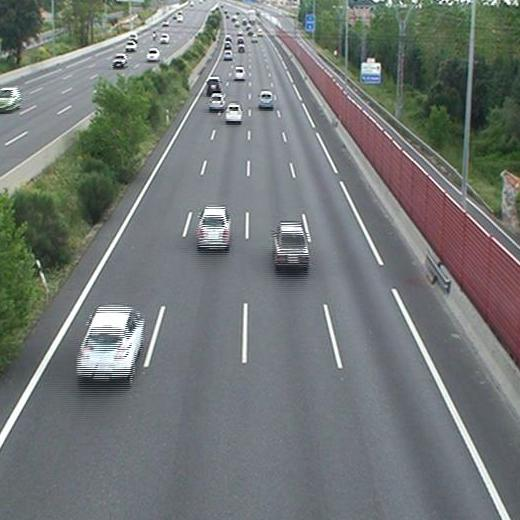car: (76, 307, 142, 379), (274, 224, 310, 266), (196, 207, 230, 249), (225, 104, 242, 121), (258, 91, 274, 108), (209, 94, 224, 111), (206, 77, 221, 92), (234, 67, 246, 79), (223, 50, 232, 59)
